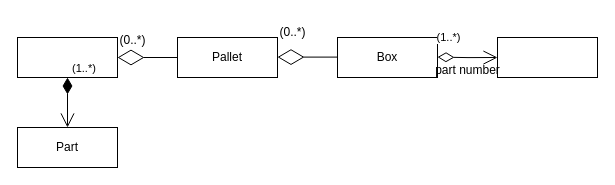
Some shapes in this 615 by 185 pixel diagram are drawn without their labels. Here are the shapes that lost their labels. From the top down, the centre of each, then its label:
At point (67, 57): "CargoPlane".
At point (547, 57): "Item".
